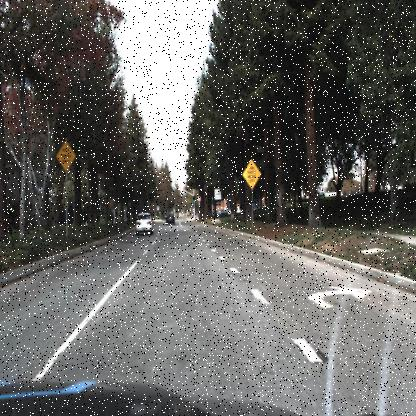car: (133, 210, 155, 238), (164, 211, 176, 228)
